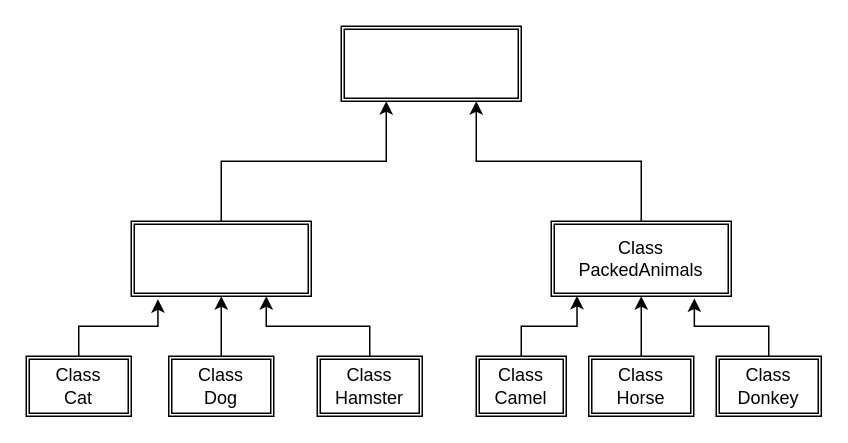
Some shapes in this 848 by 443 pixel diagram are drawn without their labels. The shapes that lost their labels are listed below. From the top down, each one's centre as x and y in pixels, then its label:
(x=430, y=63): Class Animals
(x=220, y=258): Class Pets
